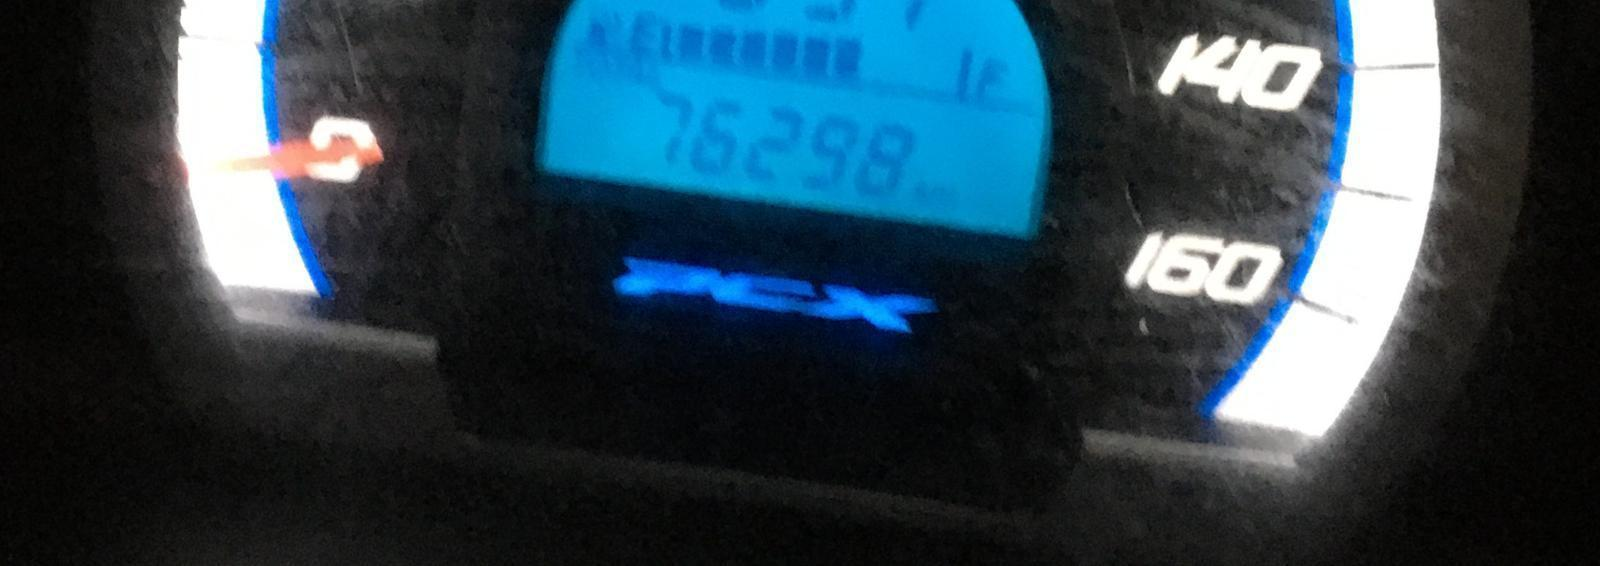2: (753, 102, 800, 181)
6: (695, 96, 739, 177)
7: (650, 86, 688, 168)
8: (861, 117, 908, 203)
9: (807, 110, 854, 191)
X: (972, 50, 1016, 96), (628, 6, 658, 52)
odometer: (515, 0, 1066, 253)
